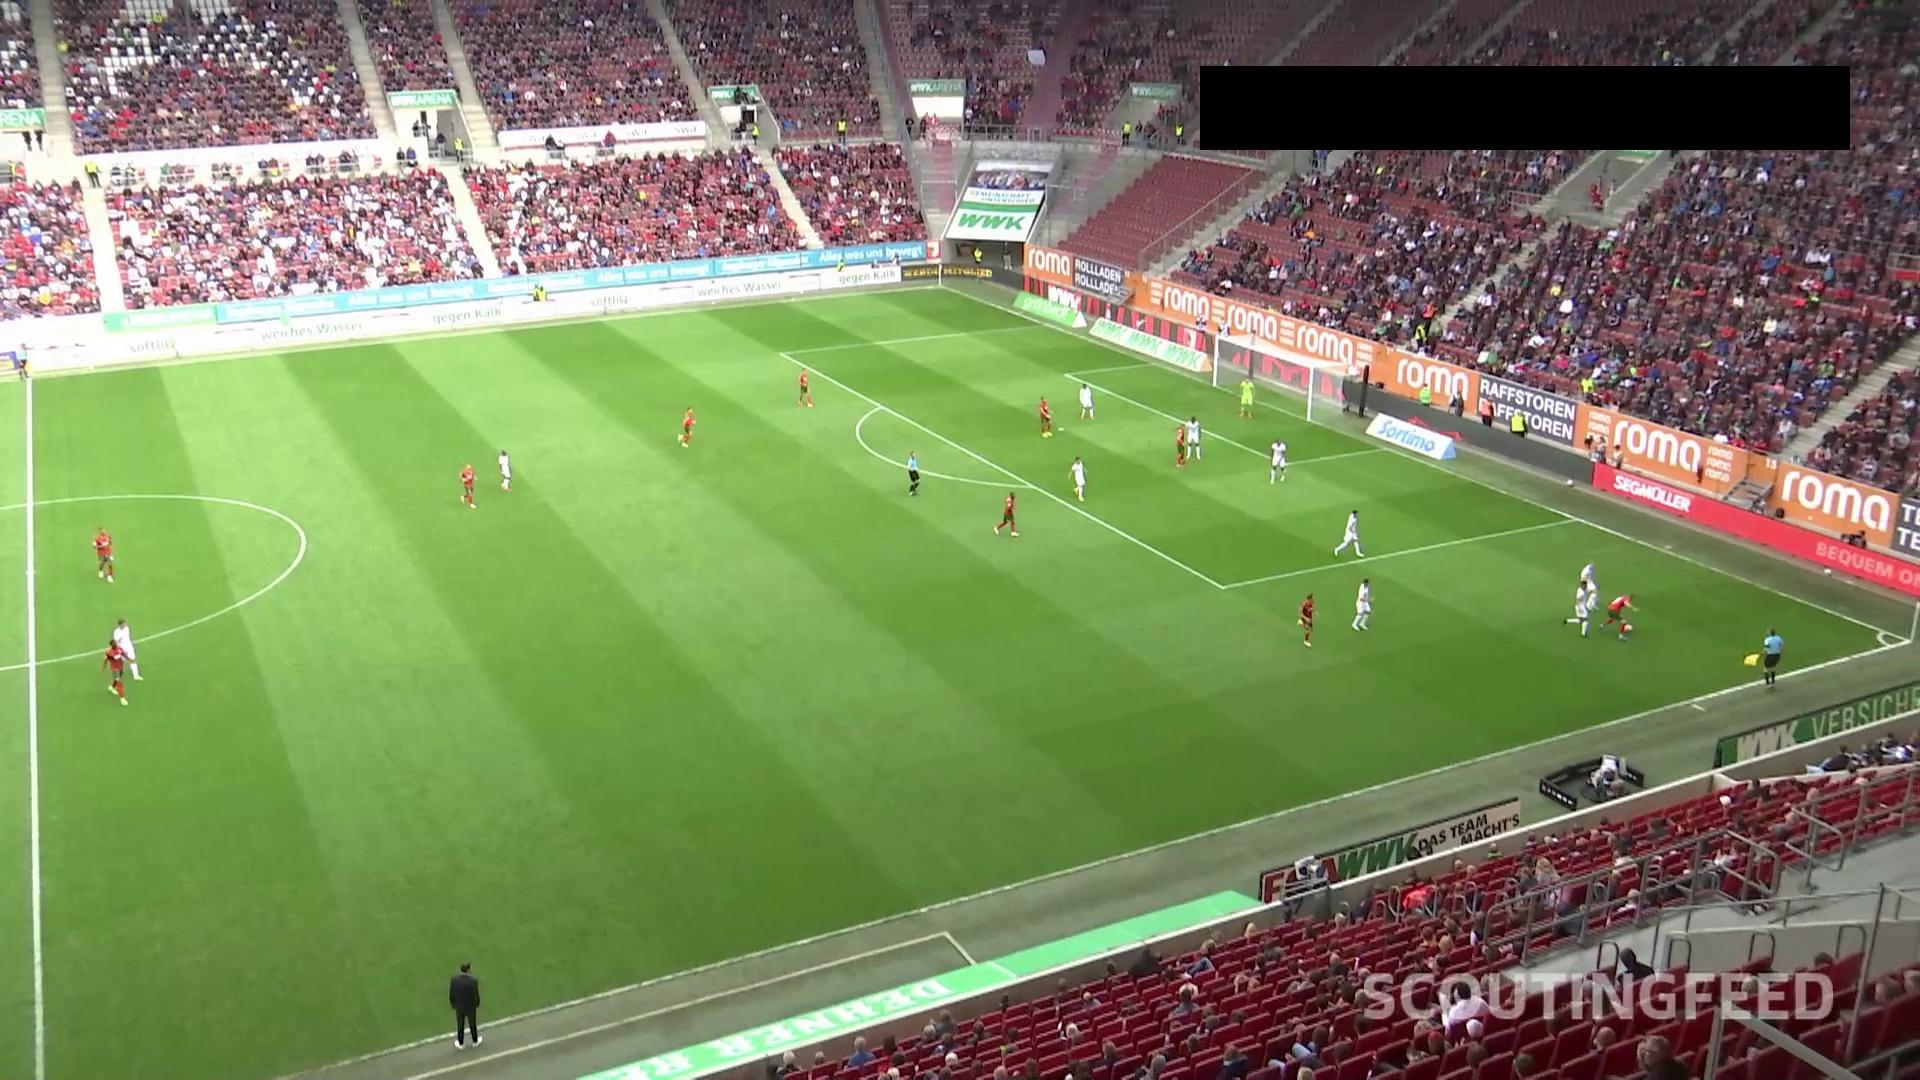Location-of-ball: (1614, 617, 1647, 649)
